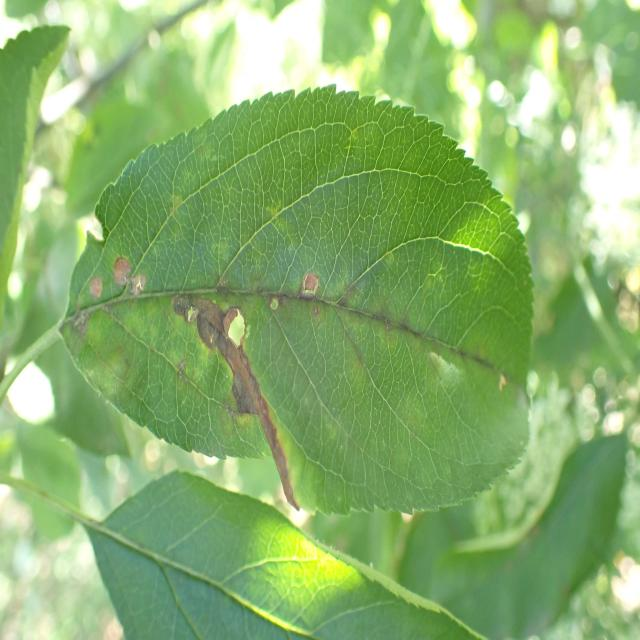frog-eye-leaf-spot: (59, 87, 536, 520)
